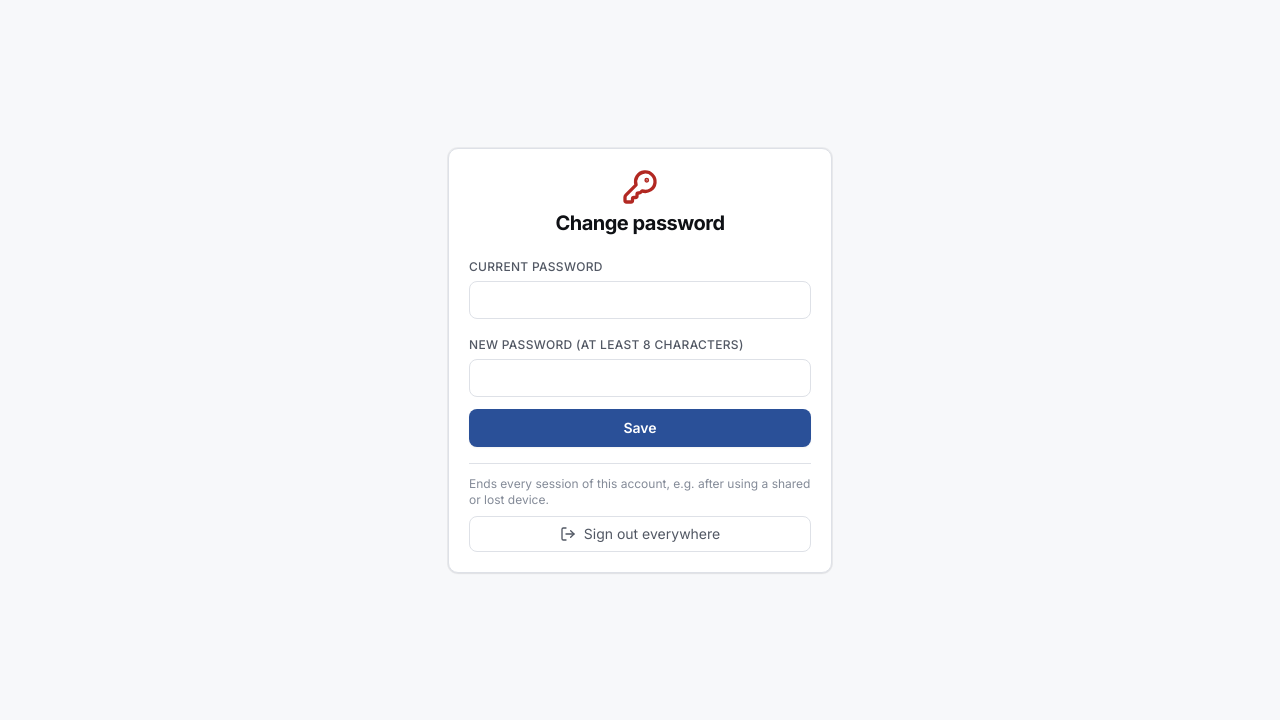
it: sign out everywhere › keeps the session when the server is not reachable
This screenshot has width=1280, height=720.
Click the button "Sign out everywhere". click: (640, 534)
box: [469,516,811,552]
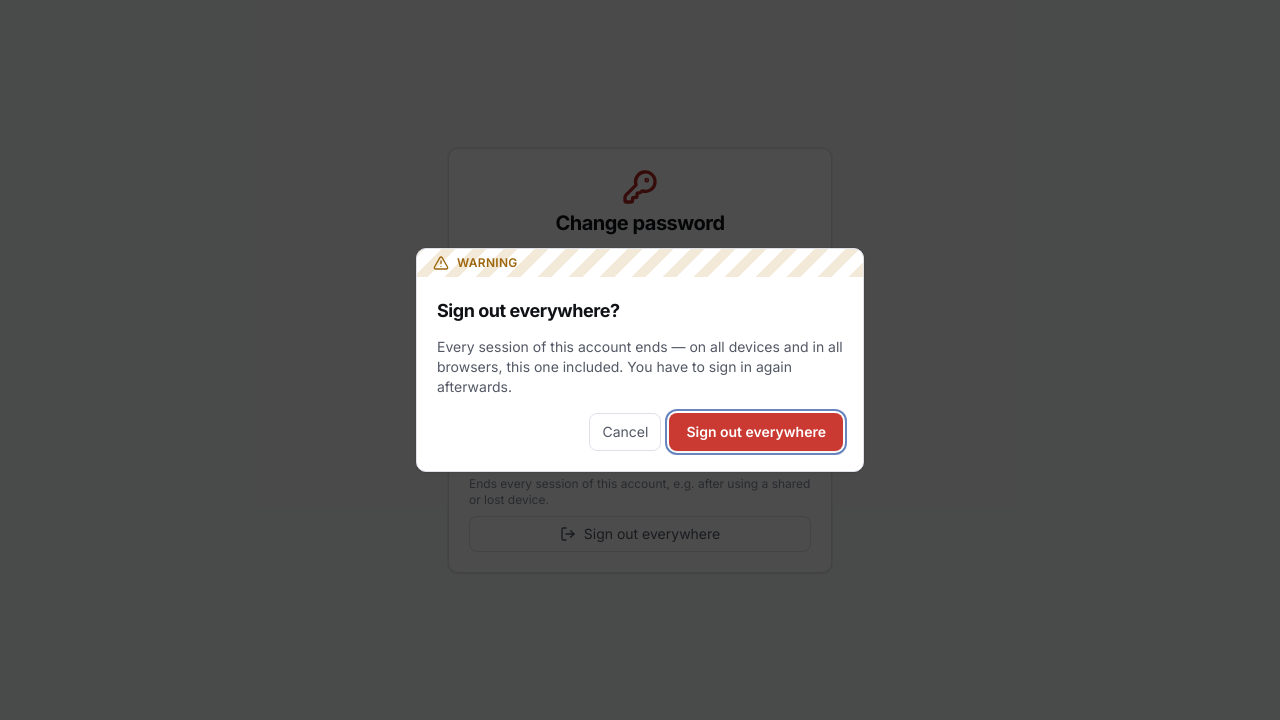
Now the heading "Sign out everywhere?" is shown, box [437,300,620,321]
Click the button "Sign out everywhere". click: (756, 432)
box: [669,413,843,451]
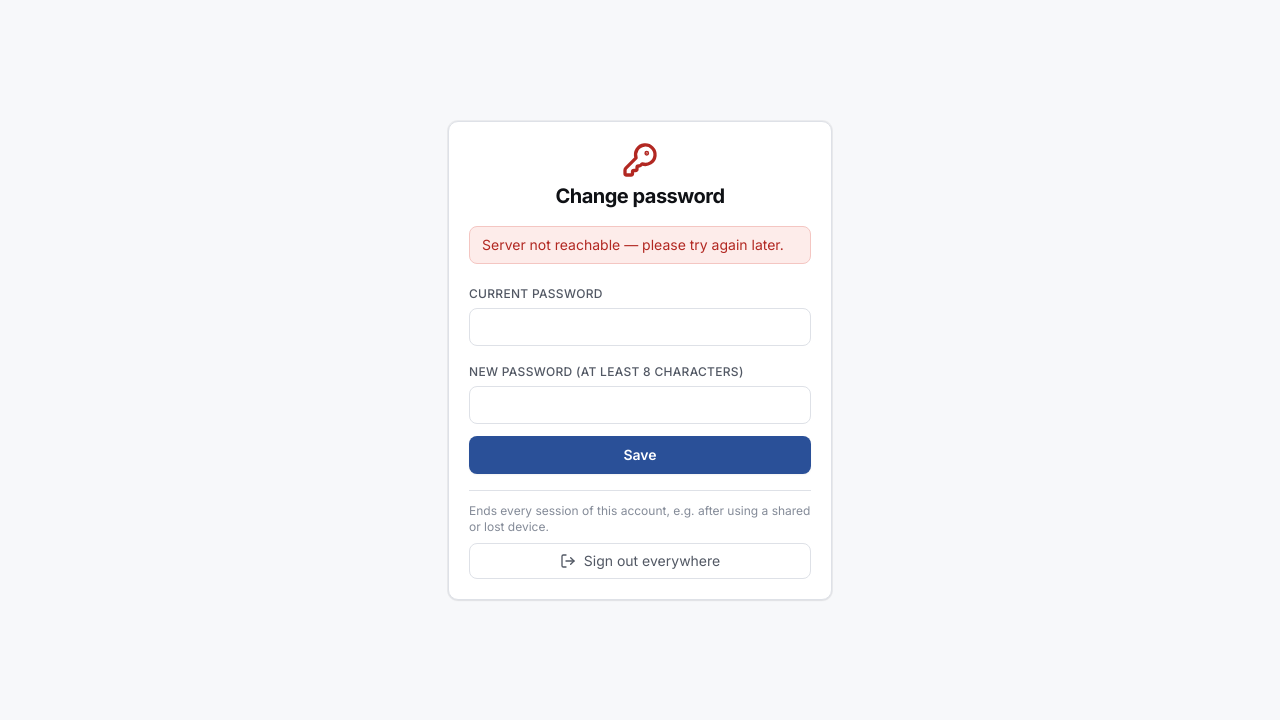
Now the text "Server not reachable — please try again later." is shown, box [469,226,811,264]
